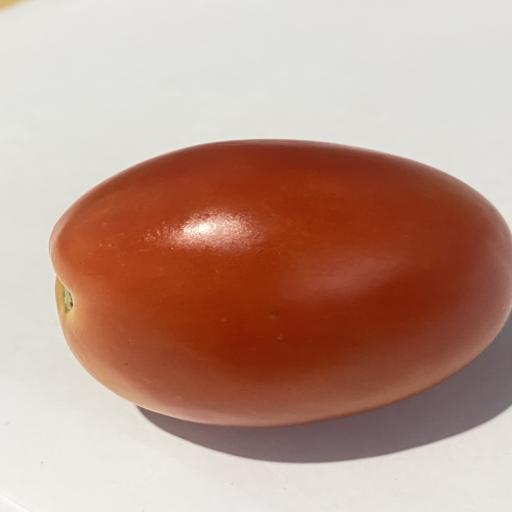ripe: (50, 140, 512, 427)
